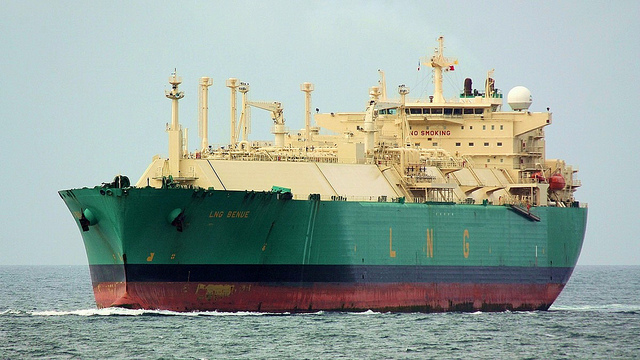LNG_ship: (57, 31, 587, 315)
